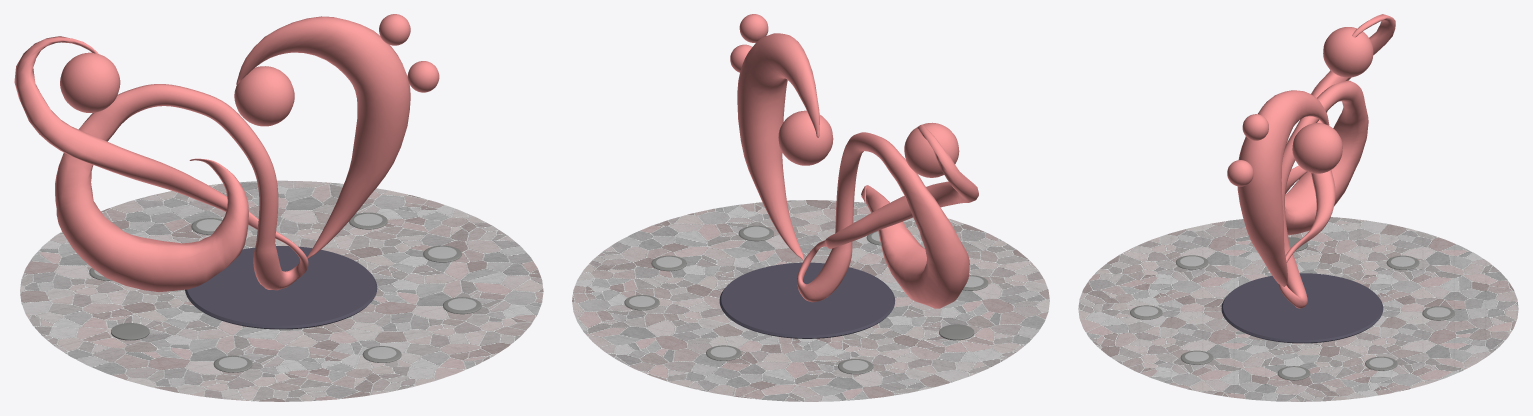
Rendered from harmonysculpture.fbx.
3 views of the same model, side by side, from view 1: azimuth 30°, elevation 25°; view 2: azimuth 150°, elevation 25°; view 3: azimuth 270°, elevation 25° (orthographic). The views are drawn at different scales.
Parts seen in each view (by area): view 1: pCylinder19, trebleclef, bassclef, base, pasted__pSphere4, bassclefsphere, pCylinder3 (×3), smallsphere, smallsphere1, pCylinder7, pCylinder9, pCylinder8; view 2: pCylinder19, trebleclef, base, bassclef, bassclefsphere, pasted__pSphere4, pCylinder3 (×2), smallsphere1, pCylinder7, pCylinder4, pCylinder8, pCylinder5; view 3: pCylinder19, trebleclef, base, bassclef, bassclefsphere, pasted__pSphere4, pCylinder3 (×2), smallsphere, smallsphere1, pCylinder7, pCylinder5, pCylinder4 (+2 smaller).
Part boxes in pixels (x1,y1,x2,y2): pCylinder19: (20, 180, 543, 401); trebleclef: (14, 36, 308, 291); bassclef: (236, 16, 410, 258); base: (185, 246, 377, 329); pasted__pSphere4: (60, 52, 120, 112); bassclefsphere: (234, 66, 294, 126); pCylinder3 (×3): (111, 245, 461, 362); smallsphere: (407, 61, 439, 92); smallsphere1: (379, 14, 410, 45); pCylinder7: (443, 297, 481, 314); pCylinder9: (213, 355, 252, 372); pCylinder8: (349, 212, 387, 229); pCylinder19: (572, 200, 1049, 401); trebleclef: (797, 125, 978, 308); base: (719, 262, 895, 338); bassclef: (737, 33, 819, 260); bassclefsphere: (778, 110, 833, 165); pasted__pSphere4: (904, 122, 959, 177); pCylinder3 (×2): (651, 255, 974, 340); smallsphere1: (739, 14, 768, 42); pCylinder7: (738, 225, 773, 241); pCylinder4: (706, 345, 741, 360); pCylinder8: (624, 295, 659, 310); pCylinder5: (838, 359, 873, 374); pCylinder19: (1078, 217, 1518, 401); trebleclef: (1278, 14, 1395, 308); base: (1221, 273, 1383, 343); bassclef: (1237, 90, 1329, 286); bassclefsphere: (1292, 123, 1342, 173); pasted__pSphere4: (1323, 27, 1373, 77); pCylinder3 (×2): (1130, 305, 1310, 380); smallsphere: (1227, 160, 1253, 186); smallsphere1: (1242, 114, 1268, 140); pCylinder7: (1180, 350, 1213, 364); pCylinder5: (1386, 255, 1419, 269); pCylinder4: (1422, 306, 1454, 320).
Bounding box in the file's own units: 251 × 145 × 251.
